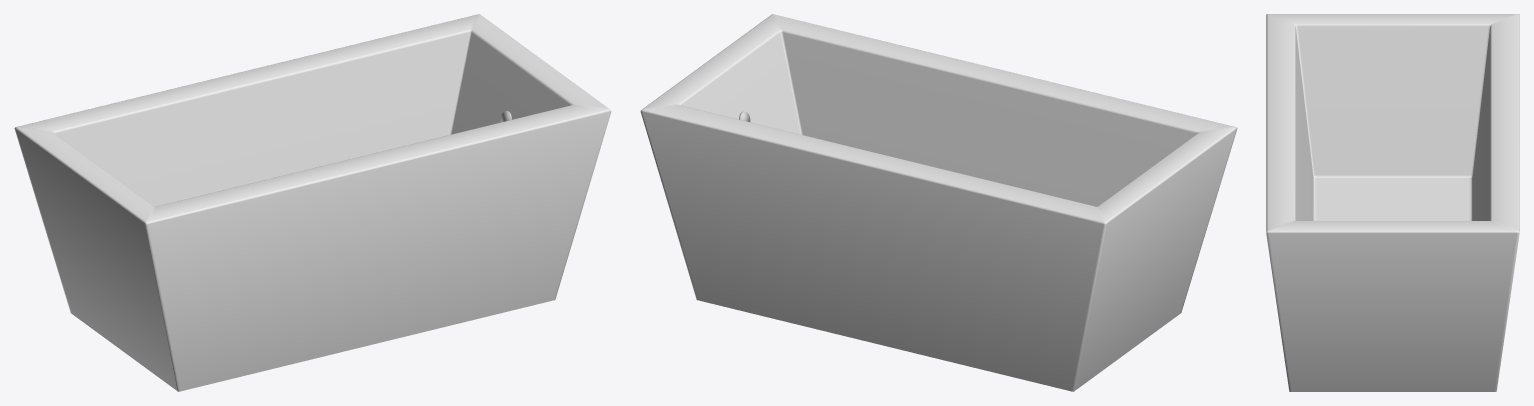
File: BathTub05.fbx
The picture shows the model from 3 angles, left to right: view 1: azimuth 30°, elevation 25°; view 2: azimuth 150°, elevation 25°; view 3: azimuth 270°, elevation 25°; orthographic projection. The views are drawn at different scales.
Parts seen in each view (by area): view 1: Bathtub05; view 2: Bathtub05; view 3: Bathtub05.
Boxes of the visible parts, x1,y1,x2,y2 form: Bathtub05: (14,14,611,391); Bathtub05: (640,14,1237,391); Bathtub05: (1266,14,1519,391).
Bounding box in the file's own units: 133 × 51.64 × 65.45.
